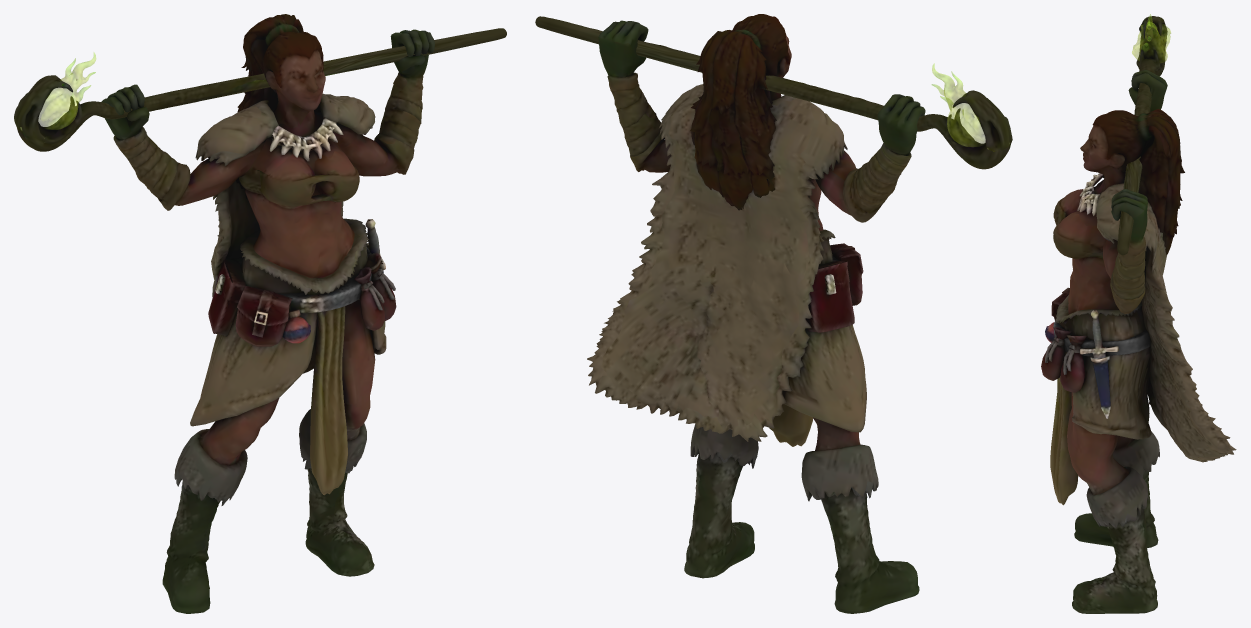
The model's file is MZ4250 - Arch Druid Female_hum1_Blighted.glb.
The picture shows the model from 3 angles, left to right: view 1: azimuth 30°, elevation 25°; view 2: azimuth 150°, elevation 25°; view 3: azimuth 270°, elevation 25°; orthographic projection. The views are drawn at different scales.
Parts seen in each view (by area): view 1: Blighted; view 2: Blighted; view 3: Blighted.
Part boxes in pixels (box(x1,y1,x2,y2)): Blighted: box(14, 14, 506, 613); Blighted: box(535, 14, 1012, 613); Blighted: box(1041, 14, 1236, 613).
Bounding box in the file's own units: 1872 × 2083 × 754.
2 materials, 2 textured.
